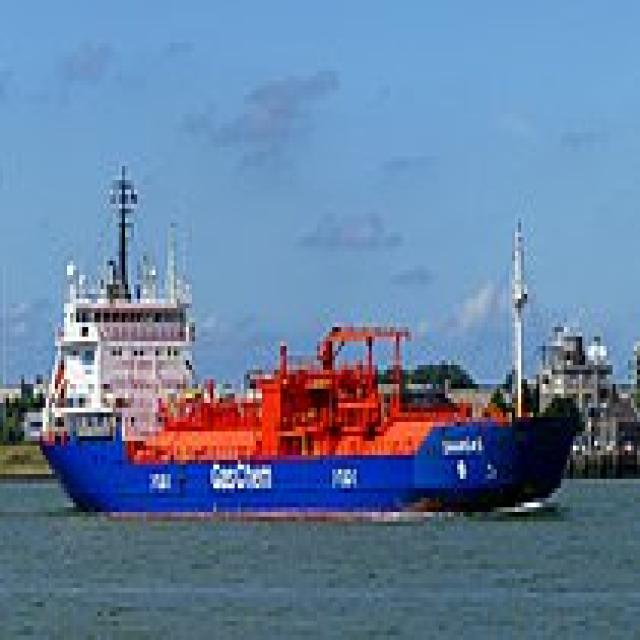Tanker: (37, 156, 576, 522)
